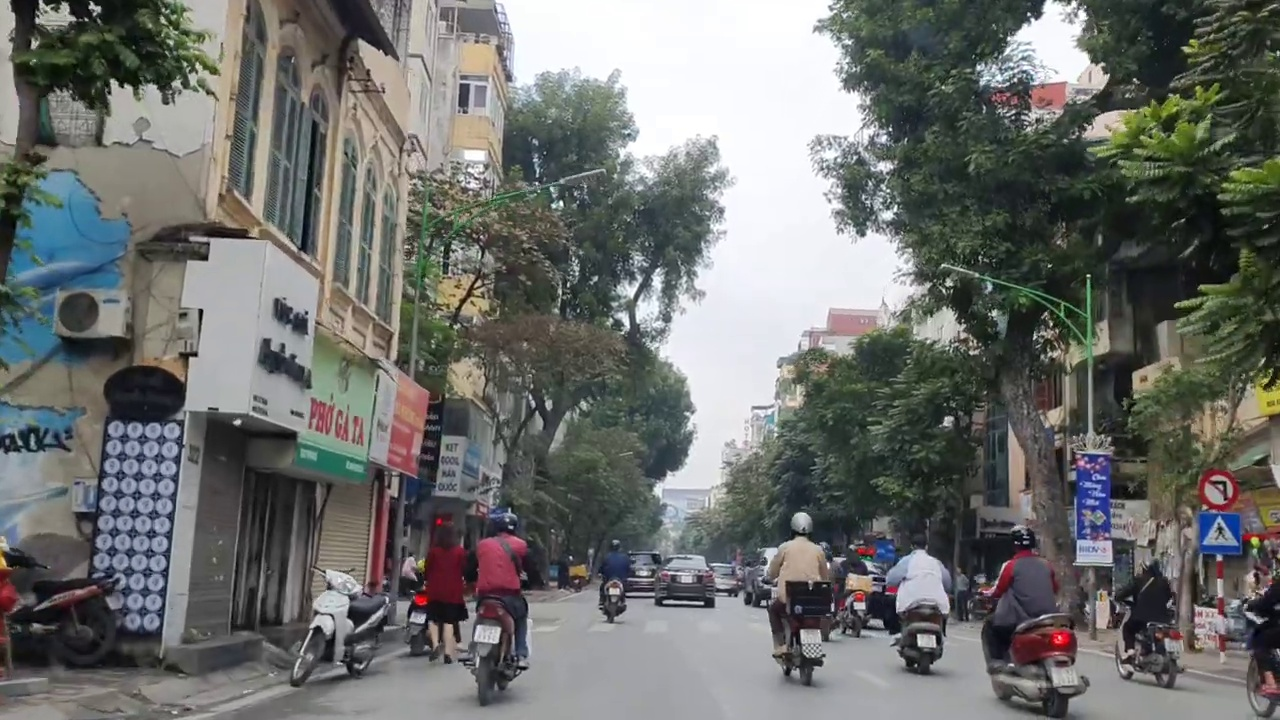person: (405, 604, 428, 626)
